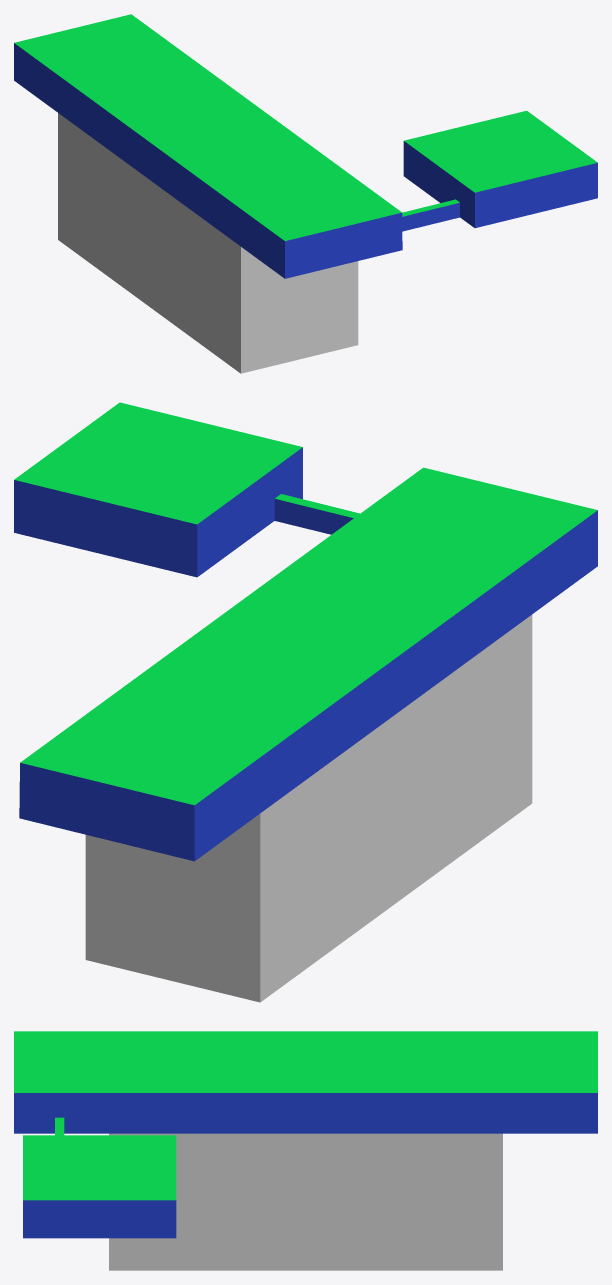
File: Crypt.fbx
The picture shows the model from 3 angles, top to bottom: view 1: azimuth 30°, elevation 25°; view 2: azimuth 150°, elevation 25°; view 3: azimuth 270°, elevation 25°; orthographic projection. The views are drawn at different scales.
Visible parts, largest first — view 1: Cube.001; view 2: Cube.001; view 3: Cube.001.
Part boxes in pixels (x1,y1,x2,y2): Cube.001: [14, 14, 597, 373]; Cube.001: [14, 402, 597, 1002]; Cube.001: [14, 1031, 597, 1270].
Size of the model in its own units: 9273 by 4604 by 13726.
